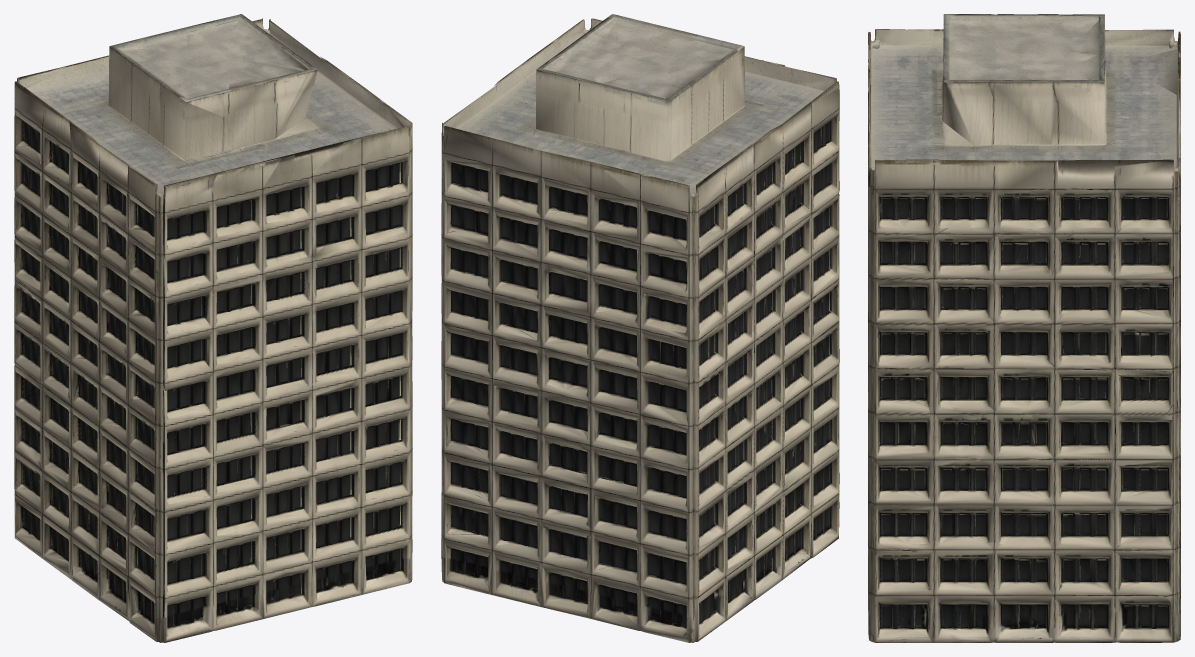
The model's file is building-office.glb.
3 renders of one model, left to right at view 1: azimuth 30°, elevation 25°; view 2: azimuth 150°, elevation 25°; view 3: azimuth 270°, elevation 25°, orthographic. The views are drawn at different scales.
Parts seen in each view (by area): view 1: Mesh_0; view 2: Mesh_0; view 3: Mesh_0.
Part boxes in pixels (<box>): Mesh_0: <box>14,14,412,642</box>; Mesh_0: <box>441,14,839,642</box>; Mesh_0: <box>868,14,1180,642</box>.
Size of the model in its own units: 1.02 by 1.9 by 1.02.
Materials: 1 (1 with a texture image).
